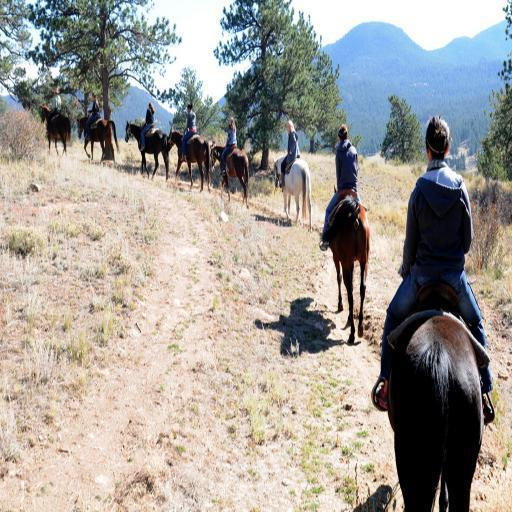horse: (384, 314, 486, 511), (328, 182, 370, 346), (123, 114, 170, 182), (273, 154, 312, 230), (167, 127, 212, 191), (210, 141, 250, 205), (74, 115, 120, 163), (40, 101, 72, 157)
